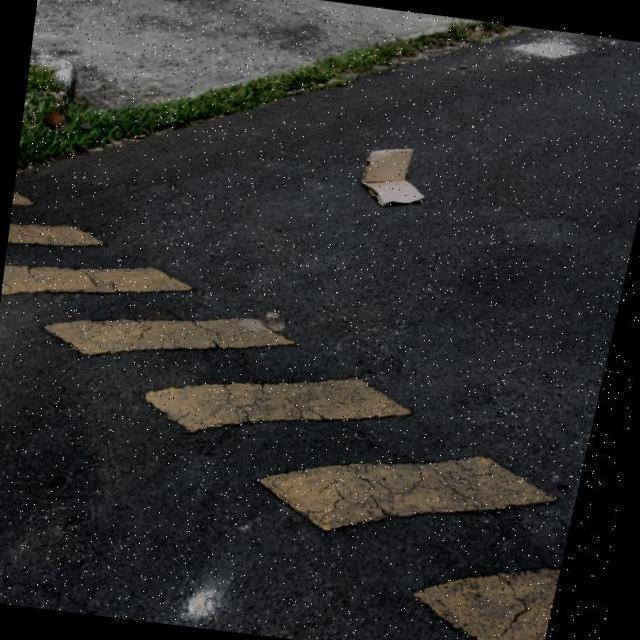Paper_Bag: (360, 142, 438, 213)
